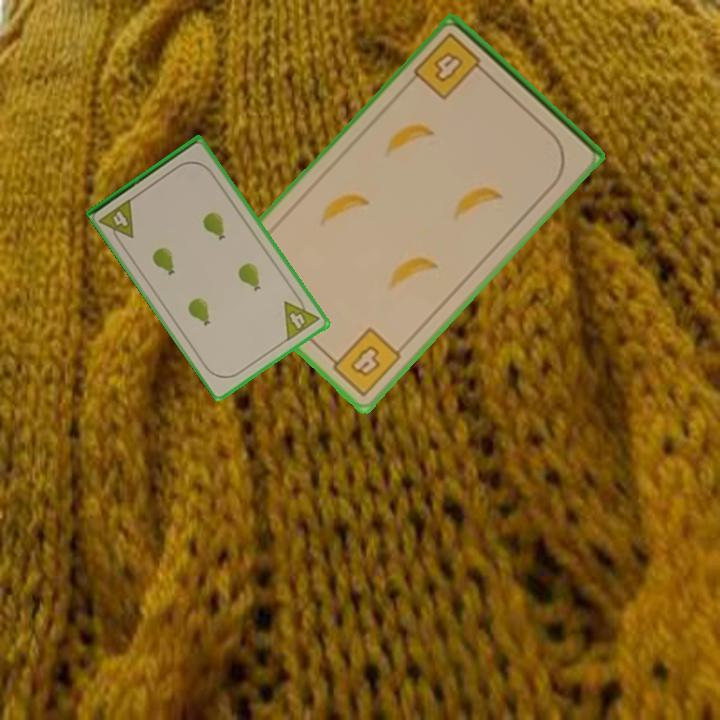4b: (323, 324, 405, 400), (410, 29, 492, 103)
4p: (280, 290, 322, 344), (96, 194, 137, 248)
